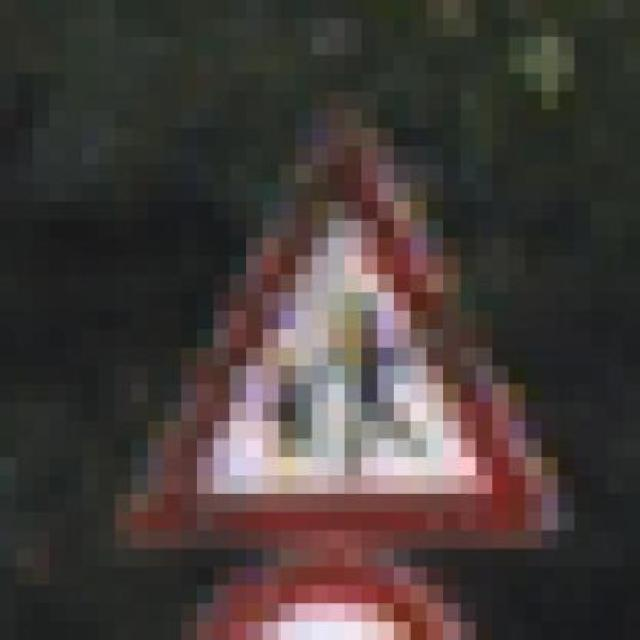Beware of children: (105, 110, 564, 567)
